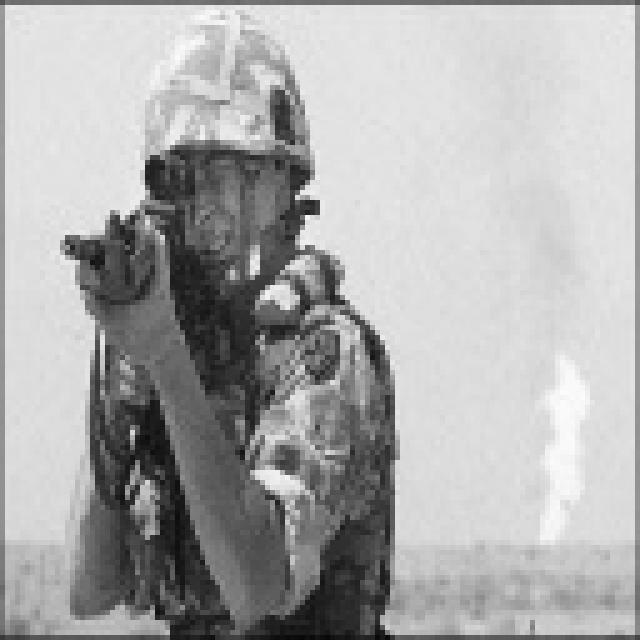Rifle: (23, 174, 283, 518)
